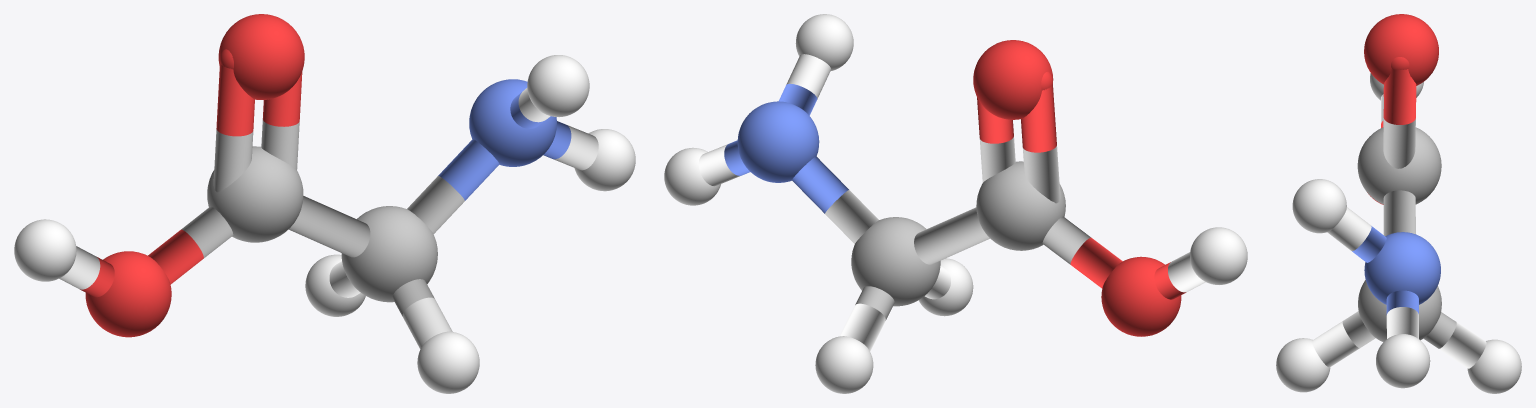
3 views of the same model, side by side, from view 1: azimuth 30°, elevation 25°; view 2: azimuth 150°, elevation 25°; view 3: azimuth 270°, elevation 25° (orthographic). The views are drawn at different scales.
Visible parts, largest first — view 1: G; view 2: G; view 3: G.
Boxes of the visible parts, x1,y1,x2,y2 form: G: (14, 14, 635, 393); G: (664, 14, 1247, 393); G: (1276, 14, 1521, 393).
Bounding box in the file's own units: 5.77 × 3.28 × 2.29.
